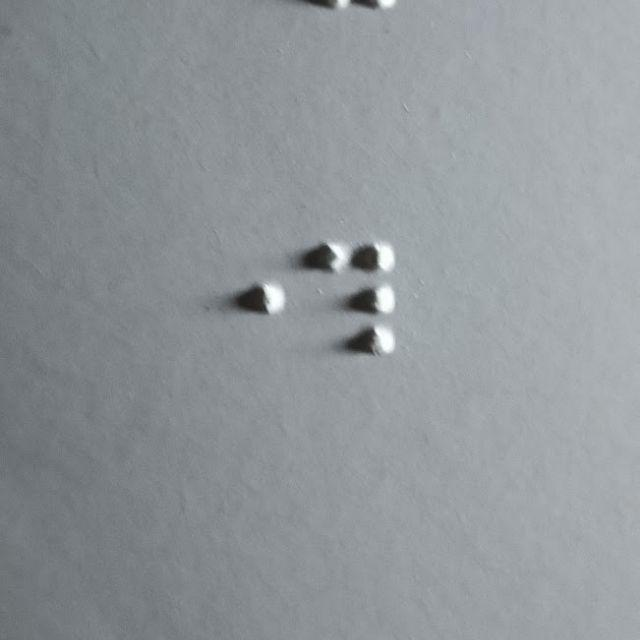dot_5: (202, 238, 288, 356)
panahon: (312, 239, 397, 357)
